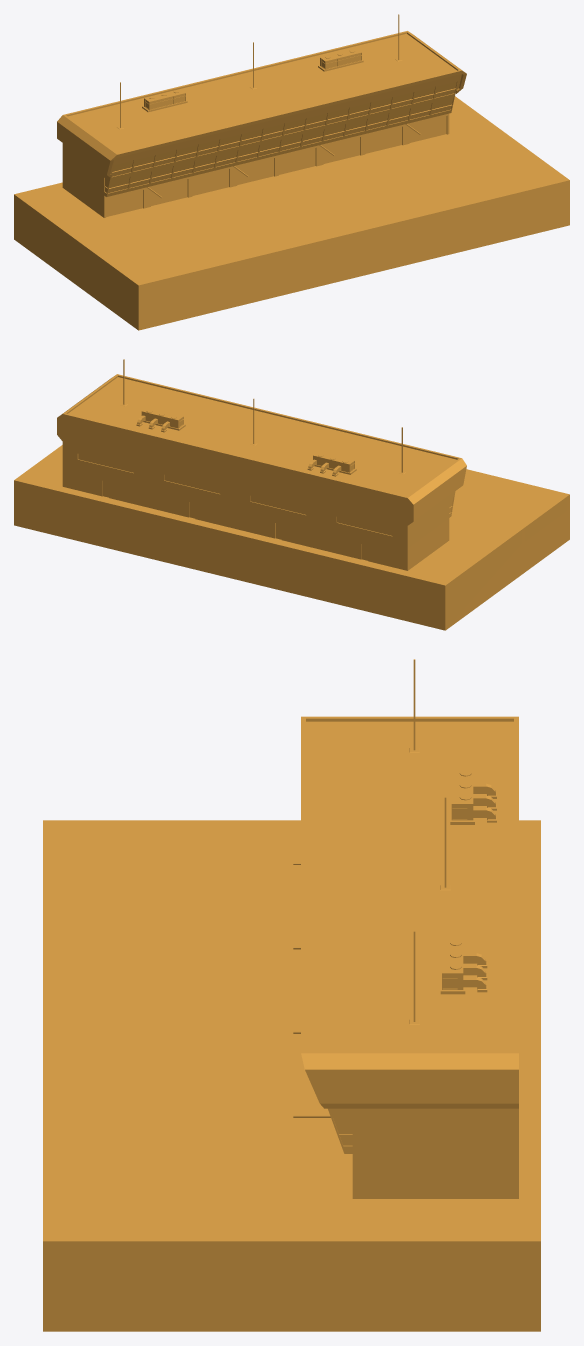
File: tile-race-track-single-pit-lane.fbx
3 renders of one model, top to bottom at view 1: azimuth 30°, elevation 25°; view 2: azimuth 150°, elevation 25°; view 3: azimuth 270°, elevation 25°, orthographic. The views are drawn at different scales.
Parts seen in each view (by area): view 1: tile-race-track-single-pit-lane; view 2: tile-race-track-single-pit-lane; view 3: tile-race-track-single-pit-lane.
Part boxes in pixels (x1,y1,x2,y2): tile-race-track-single-pit-lane: (14,14,569,330); tile-race-track-single-pit-lane: (14,359,569,630); tile-race-track-single-pit-lane: (43,659,540,1331).
Size of the model in its own units: 60 by 21.51 by 30.
